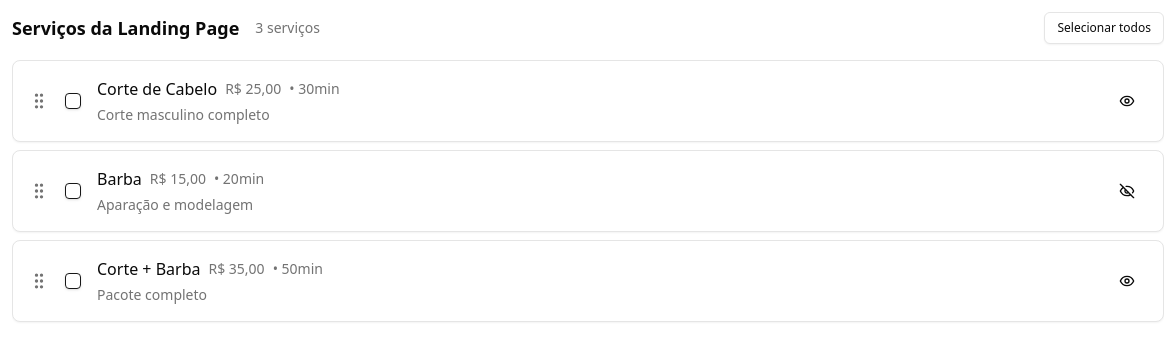
Test: ServiceManager › Controles de seleção › should show bulk actions when services are selected
// Selecionar primeiro serviço
Click the checkbox next to "Corte de Cabelo".
click(73, 101)  # box left=65, top=93, right=81, bottom=109
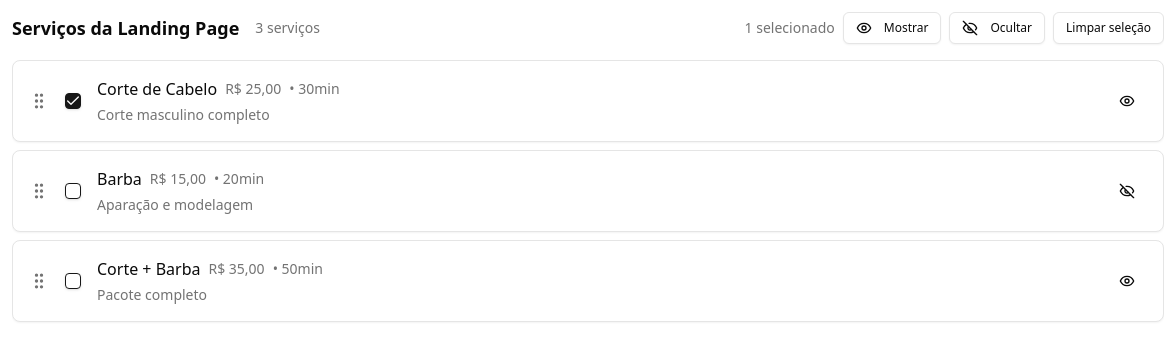
Expected: the text "1 selecionado" is shown, left=745, top=18, right=835, bottom=38
Expected: the button "Mostrar" is shown, left=843, top=12, right=941, bottom=44
Expected: the button "Ocultar" is shown, left=949, top=12, right=1045, bottom=44
